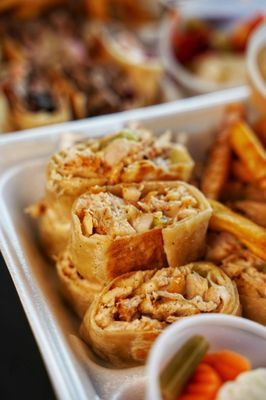sushi: (143, 313, 266, 400), (160, 1, 264, 97)
